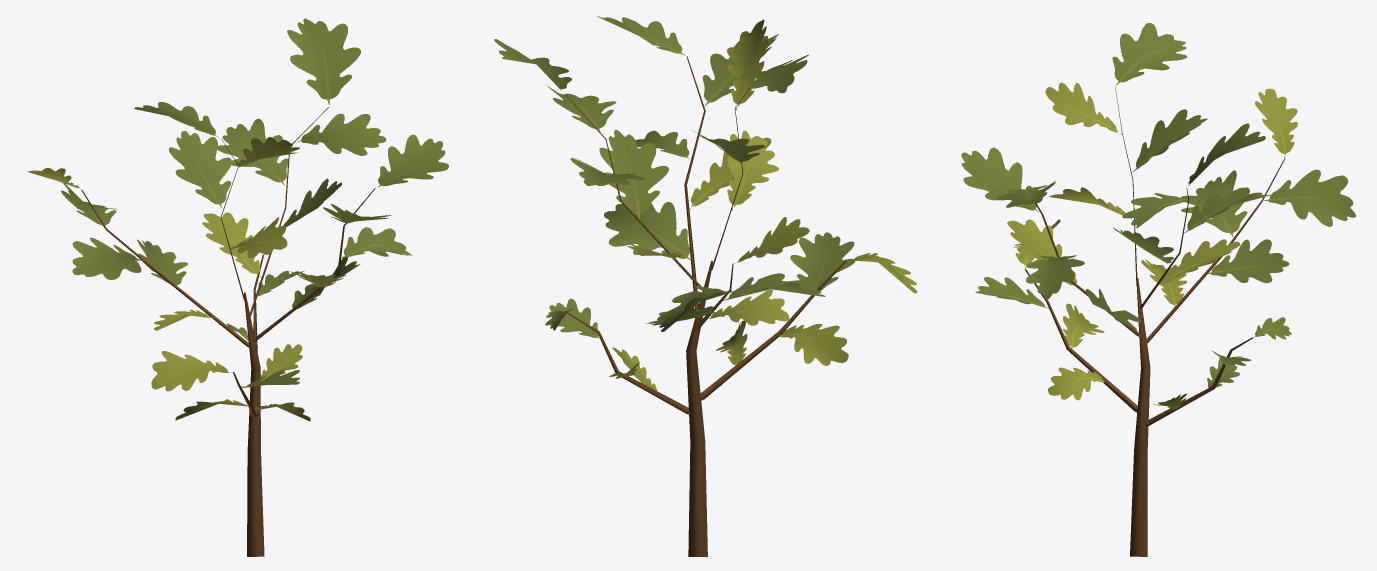
The model's file is Young_Oak_Tree_3.fbx.
3 renders of one model, left to right at view 1: azimuth 30°, elevation 25°; view 2: azimuth 150°, elevation 25°; view 3: azimuth 270°, elevation 25°, orthographic. The views are drawn at different scales.
Visible parts, largest first — view 1: Young_Oak_Tree_3; view 2: Young_Oak_Tree_3; view 3: Young_Oak_Tree_3.
Boxes of the visible parts, bbox=[...] form: Young_Oak_Tree_3: bbox=[25, 18, 448, 556]; Young_Oak_Tree_3: bbox=[494, 16, 917, 556]; Young_Oak_Tree_3: bbox=[961, 23, 1355, 556].
Bounding box in the file's own units: 91.87 × 134 × 102.
Materials: 2 (2 with a texture image).
